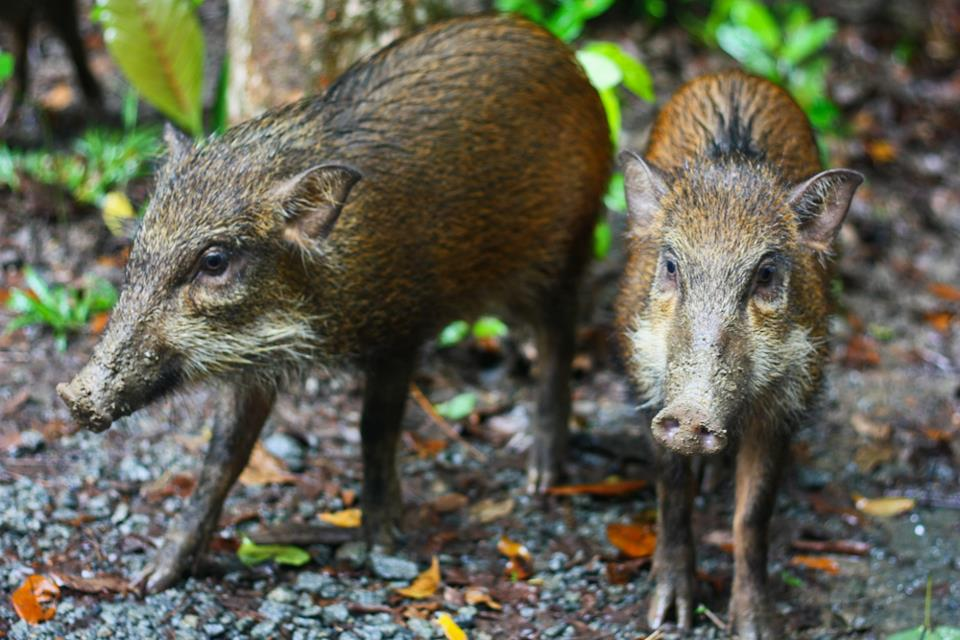boar: (51, 8, 618, 603), (605, 47, 869, 640)
